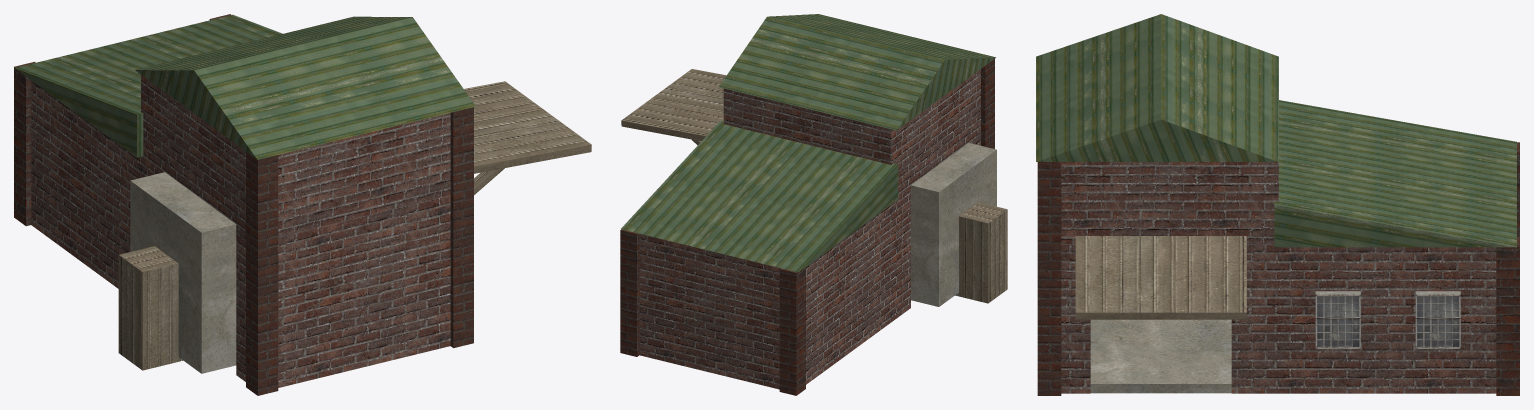
Rendered from Building 4.fbx.
The picture shows the model from 3 angles, left to right: view 1: azimuth 30°, elevation 25°; view 2: azimuth 150°, elevation 25°; view 3: azimuth 270°, elevation 25°; orthographic projection. The views are drawn at different scales.
Visible parts, largest first — view 1: Cube, Plane.001, Cube.001, Cube.003, Plane, Cube.004, Cube.008; view 2: Cube, Plane, Plane.001, Cube.003, Cube.001, Cube.004, Cube.008; view 3: Cube, Plane.001, Plane, Cube.004, Cube.003, Cube.001, Cube.002, Cube.006.
Part boxes in pixels (x1,y1,x2,y2): Cube: (31, 75, 450, 387); Plane.001: (135, 16, 475, 159); Cube.001: (14, 14, 473, 395); Cube.003: (130, 172, 236, 373); Plane: (14, 14, 282, 157); Cube.004: (464, 81, 591, 173); Cube.008: (118, 246, 182, 370); Cube: (639, 69, 980, 389); Plane: (621, 121, 898, 272); Plane.001: (719, 14, 995, 130); Cube.003: (911, 143, 996, 306); Cube.001: (620, 59, 994, 395); Cube.004: (621, 69, 726, 141); Cube.008: (955, 202, 1007, 303); Cube: (1061, 162, 1496, 393); Plane.001: (1036, 14, 1278, 161); Plane: (1274, 100, 1516, 247); Cube.004: (1075, 236, 1246, 319); Cube.003: (1090, 319, 1231, 393); Cube.001: (1037, 142, 1519, 395); Cube.002: (1315, 291, 1360, 349); Cube.006: (1415, 291, 1460, 349).
Bounding box in the file's own units: 2032 × 1300 × 2057.
